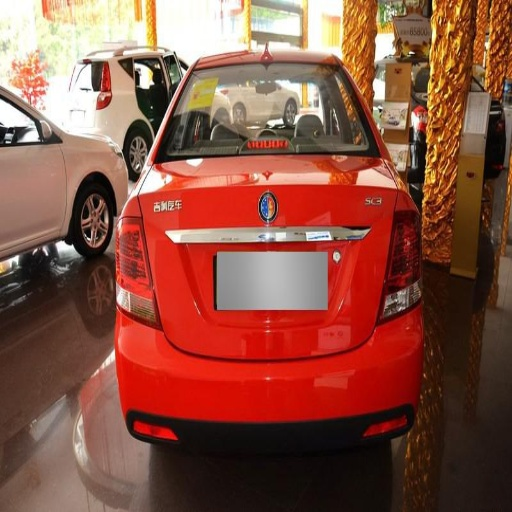back_bumper: (118, 305, 423, 480)
tailgate: (144, 201, 378, 358), (342, 194, 386, 242)
trunk: (141, 163, 395, 328)
